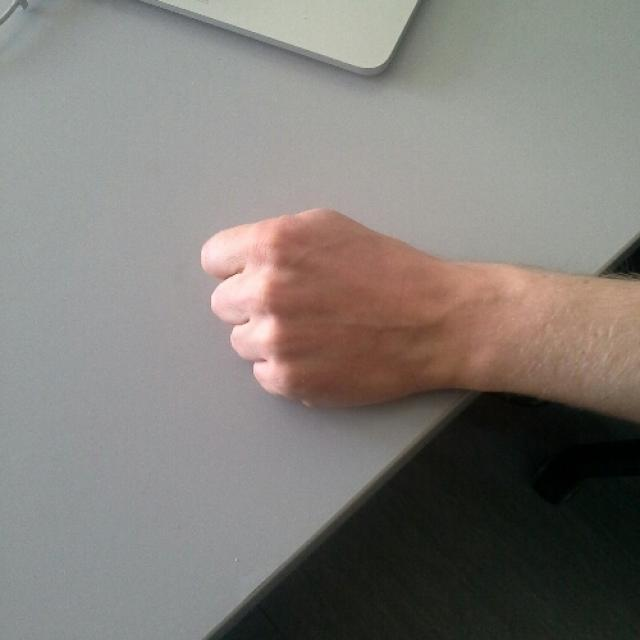rock: (198, 206, 448, 416)
